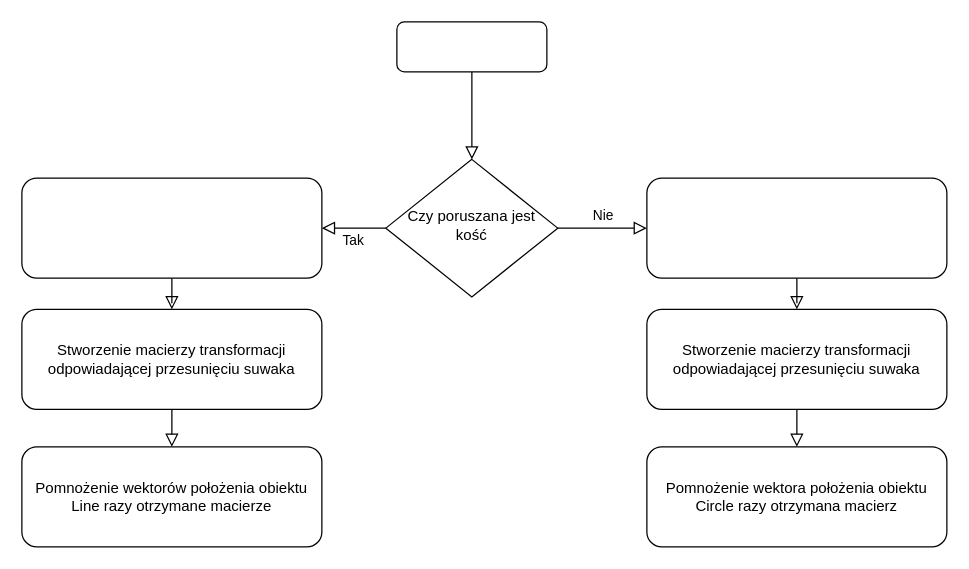
This 969x569 diagram has some shape labels left out. Here are the shapes that lost their labels. From the top down, the centre of each, then its label:
the point at 471,46: Poruszenie suwakiem
the point at 171,227: Dopasowanie nazwy wybranej kości do odpowiednio nazwanego obiektu type Line
the point at 796,227: Dopasowanie nazwy wybranego stawu do odpowiednio nazwanego obiektu type Circle
